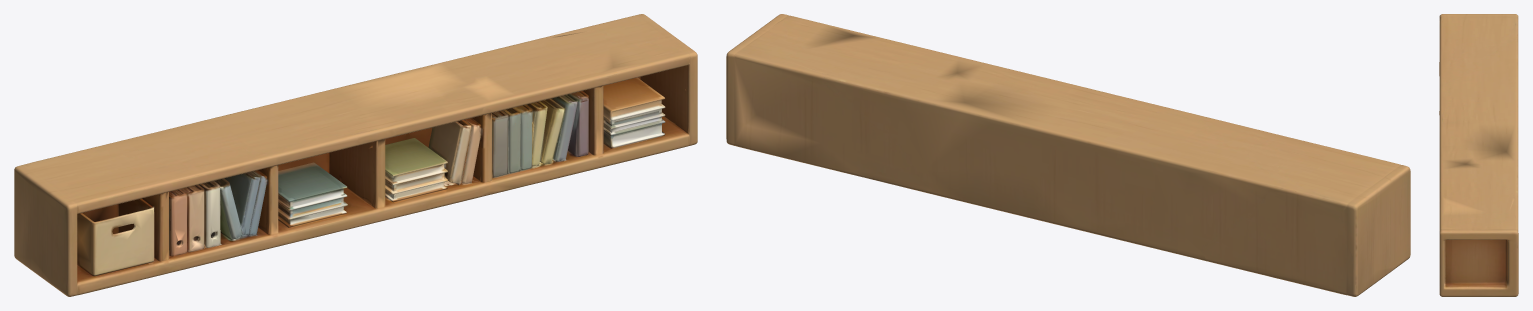
The model's file is bookshelf.glb.
3 views of the same model, side by side, from view 1: azimuth 30°, elevation 25°; view 2: azimuth 150°, elevation 25°; view 3: azimuth 270°, elevation 25° (orthographic). The views are drawn at different scales.
Visible parts, largest first — view 1: node_0; view 2: node_0; view 3: node_0.
Boxes of the visible parts, bbox=[...] form: node_0: bbox=[14, 14, 697, 296]; node_0: bbox=[726, 14, 1410, 296]; node_0: bbox=[1439, 14, 1518, 296].
Bounding box in the file's own units: 1.18 × 0.1655 × 0.1798.
1 material, 1 textured.
